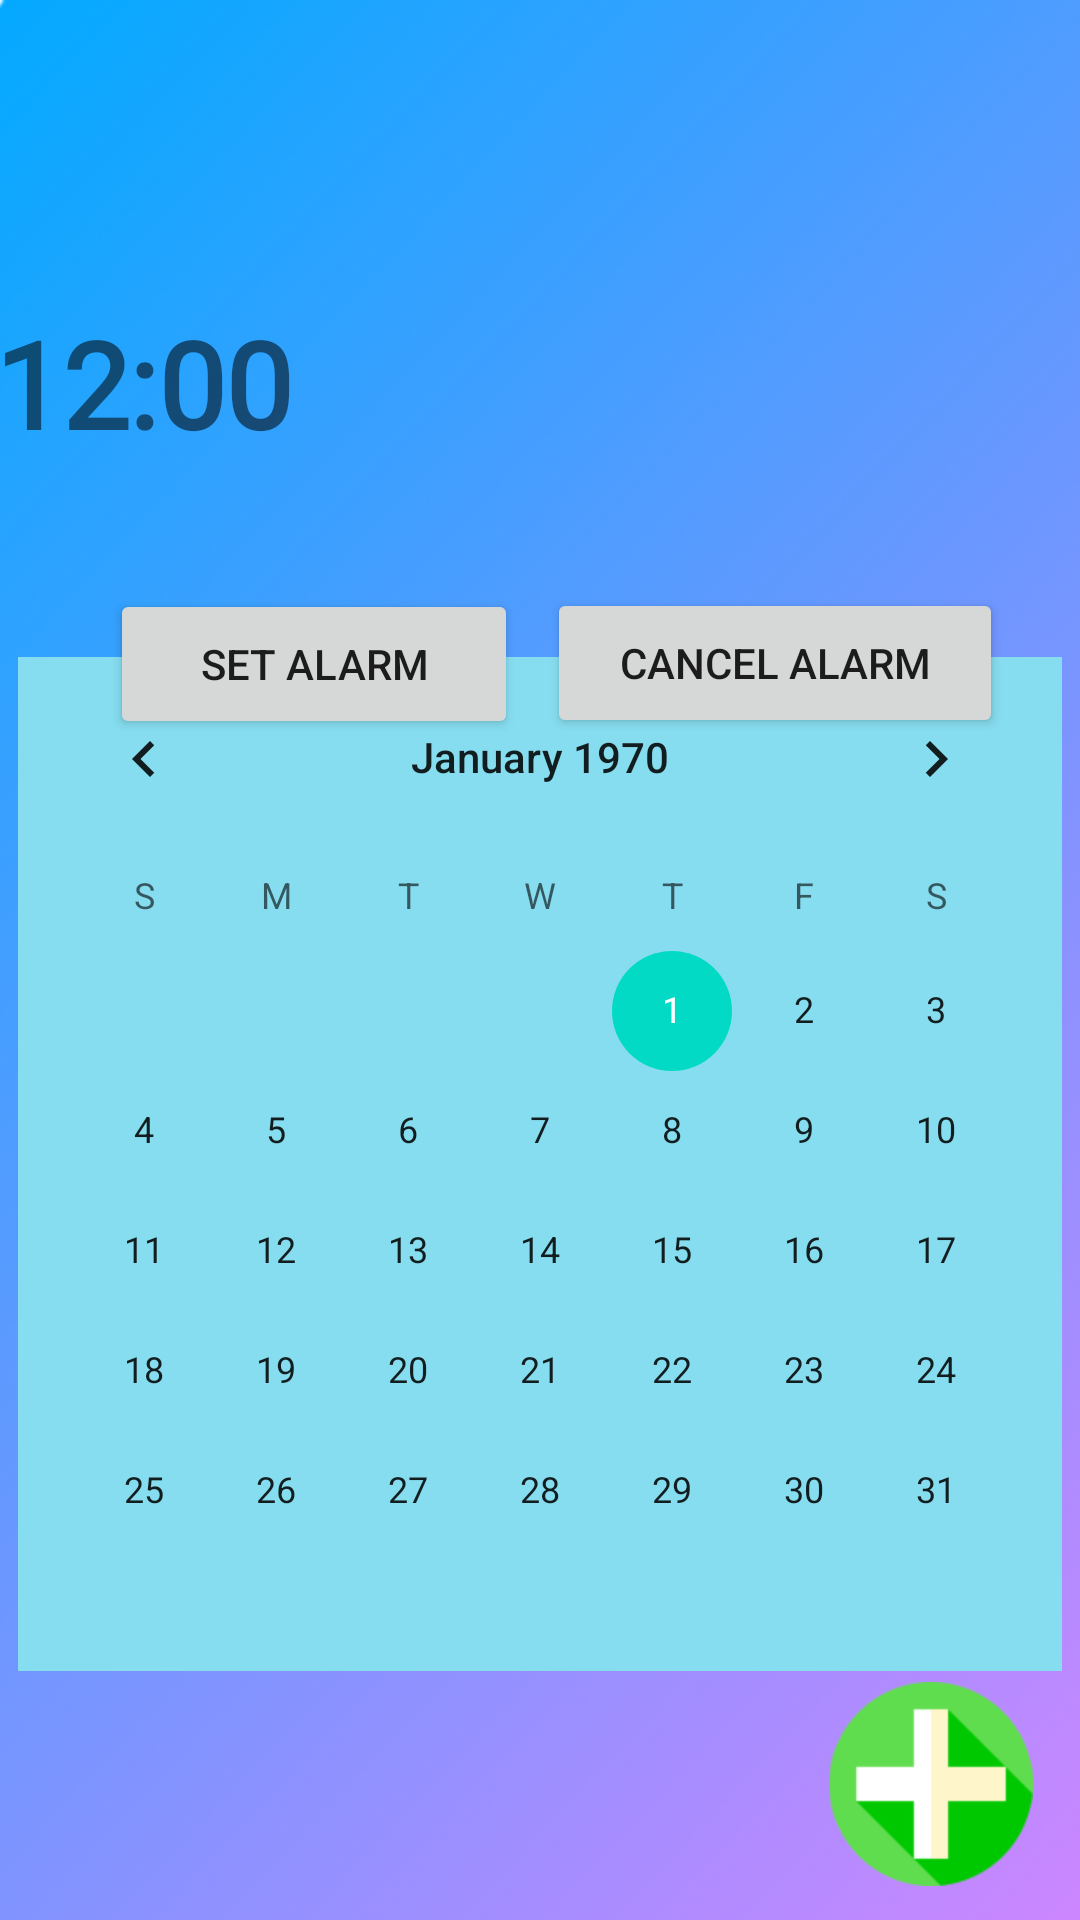

Icon click points for this 1080×1920 phone screenshot, format point (x, y):
plus: point (931, 1784)
